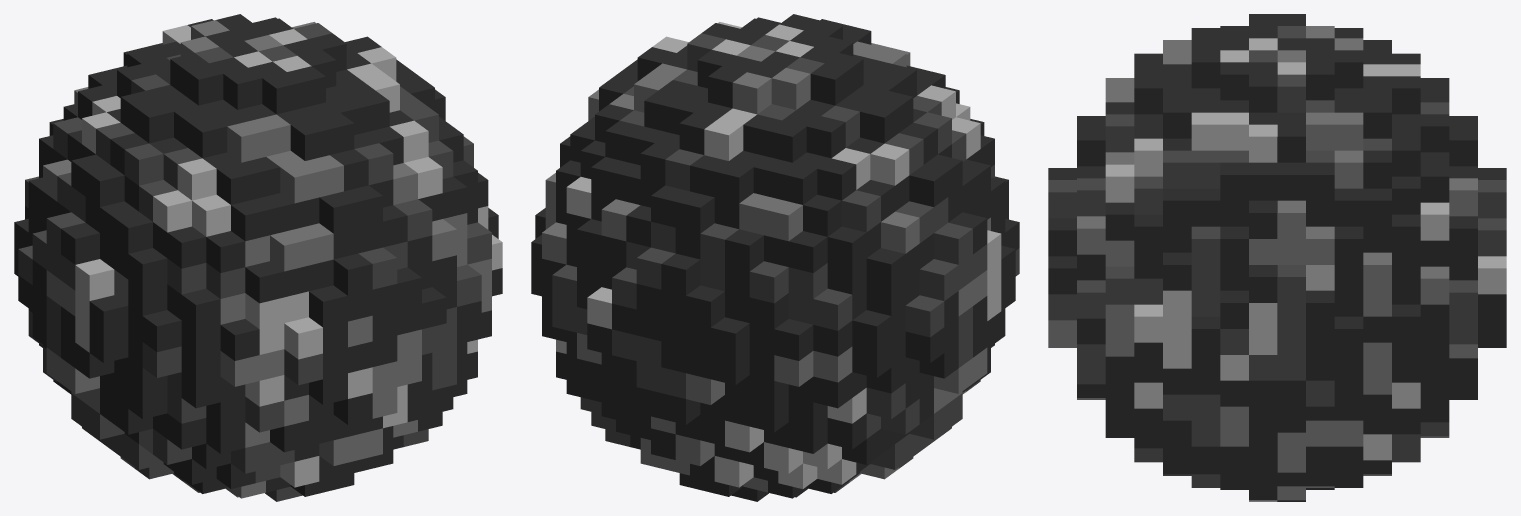
Rendered from planetas-16-cinza.obj.
3 renders of one model, left to right at view 1: azimuth 30°, elevation 25°; view 2: azimuth 150°, elevation 25°; view 3: azimuth 270°, elevation 25°, orthographic.
Size of the model in its own units: 1.6 by 1.6 by 1.6.
Materials: 1 (1 with a texture image).
